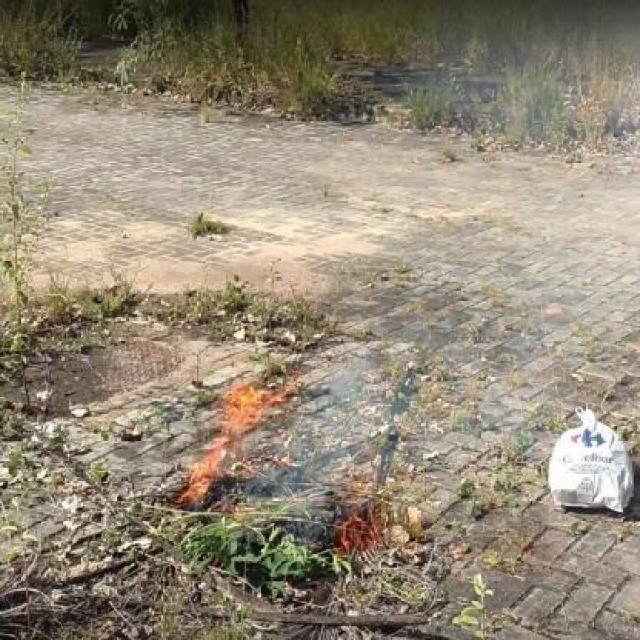Fire: (174, 382, 286, 502), (334, 510, 386, 548)
